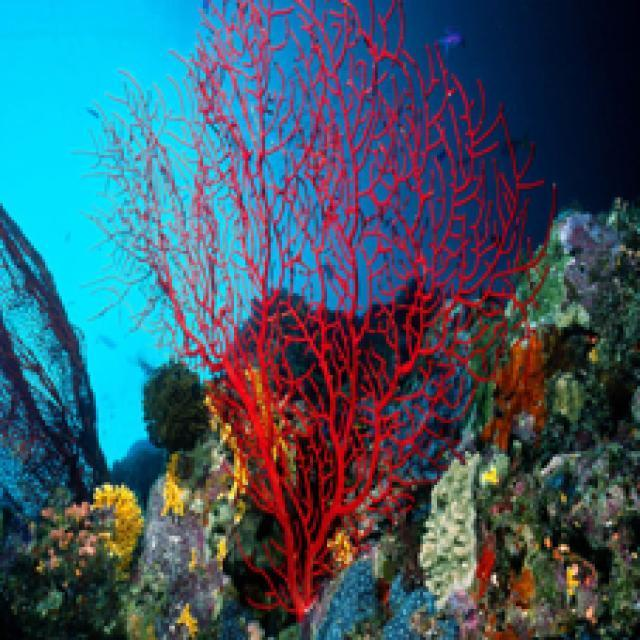Healthy: (185, 101, 490, 371), (201, 6, 416, 129), (113, 87, 188, 330), (288, 259, 336, 619), (482, 113, 543, 360), (224, 374, 303, 508), (492, 341, 545, 449), (387, 570, 454, 640), (322, 558, 378, 640), (98, 484, 142, 566)
